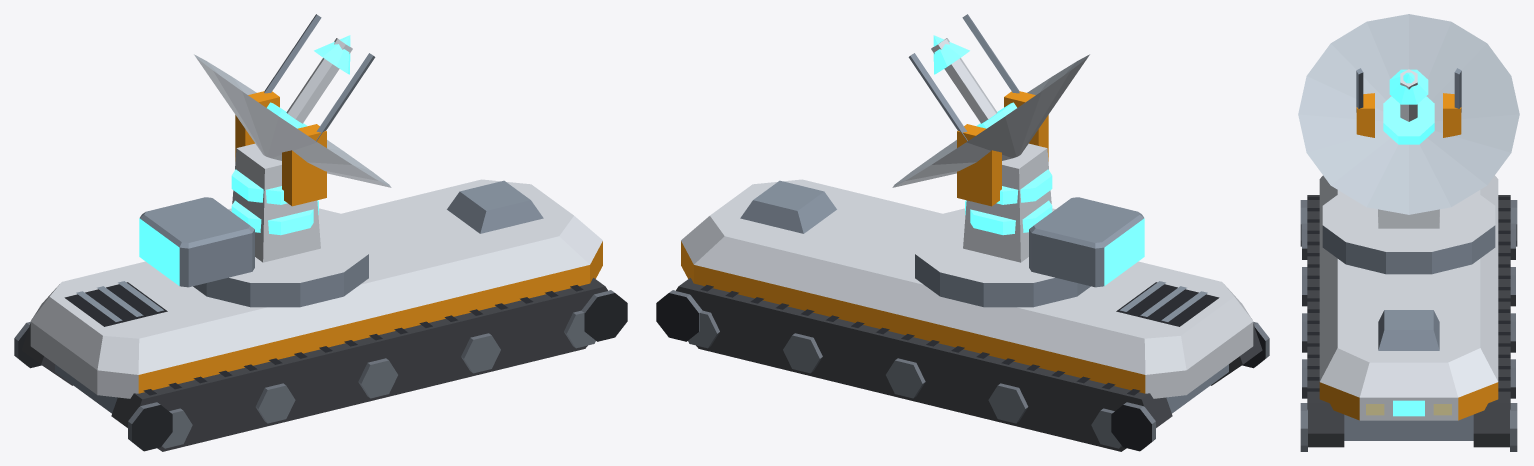
The model's file is maser.glb.
3 renders of one model, left to right at view 1: azimuth 30°, elevation 25°; view 2: azimuth 150°, elevation 25°; view 3: azimuth 270°, elevation 25°, orthographic. The views are drawn at different scales.
Parts seen in each view (by area): view 1: Body, Turret; view 2: Body, Turret; view 3: Turret, Body.
Part boxes in pixels (<box>): Body: <box>14,179,627,451</box>; Turret: <box>139,14,391,307</box>; Body: <box>656,179,1269,451</box>; Turret: <box>892,14,1144,307</box>; Turret: <box>1298,14,1519,274</box>; Body: <box>1300,175,1517,451</box>.
Size of the model in its own units: 0.8882 by 0.5286 by 0.36.
